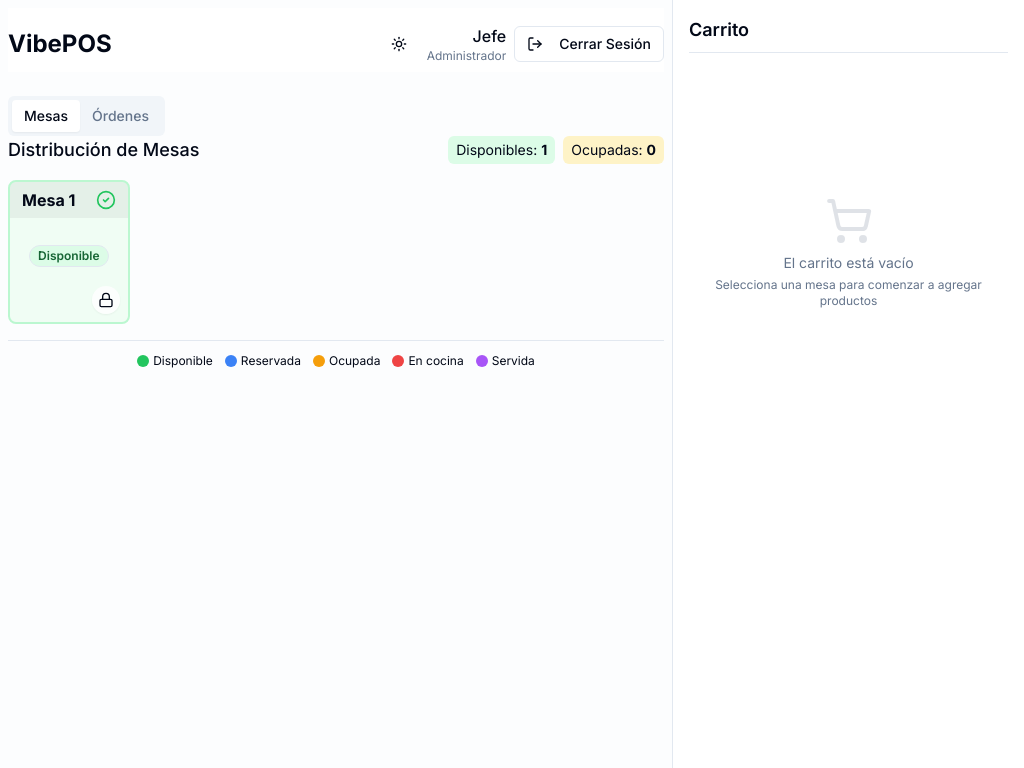
Test: WaiterView — selecting a table does not rebuild the screen (T6/S2) › does not read the waiters again when the waiter picker opens
The width and height of the screenshot is (1024, 768).
Click the text "Mesa 1" at (49, 200), box [22, 188, 75, 212]
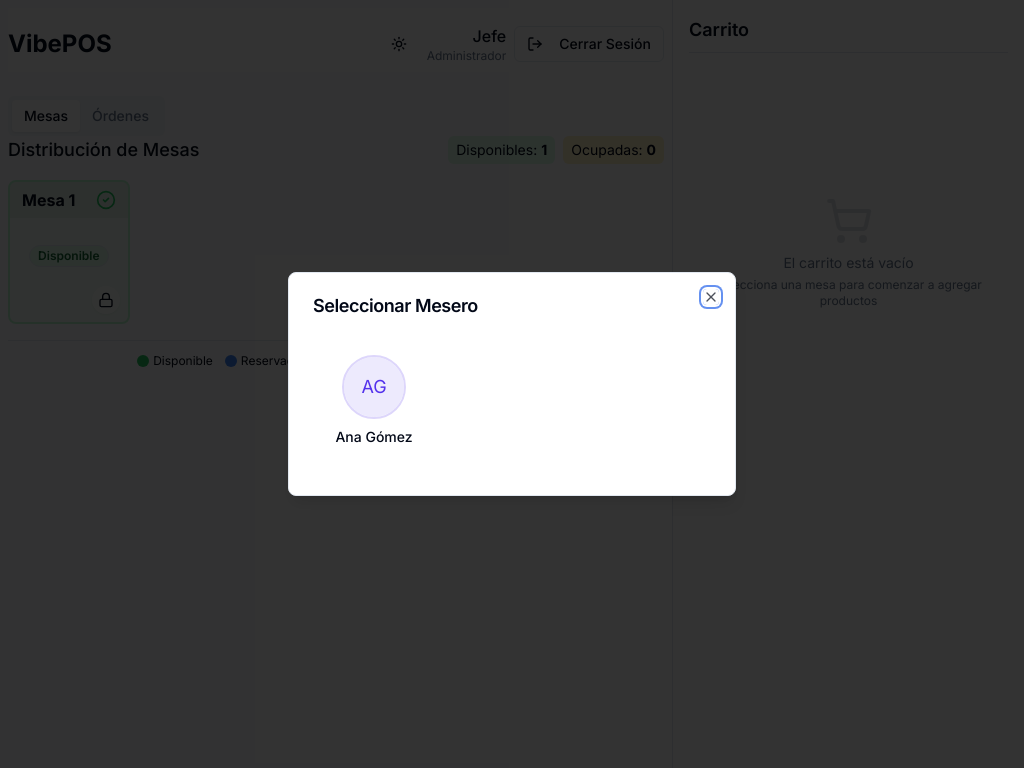
Result: the text "Ana Gómez" is shown at [335, 427, 413, 447]
